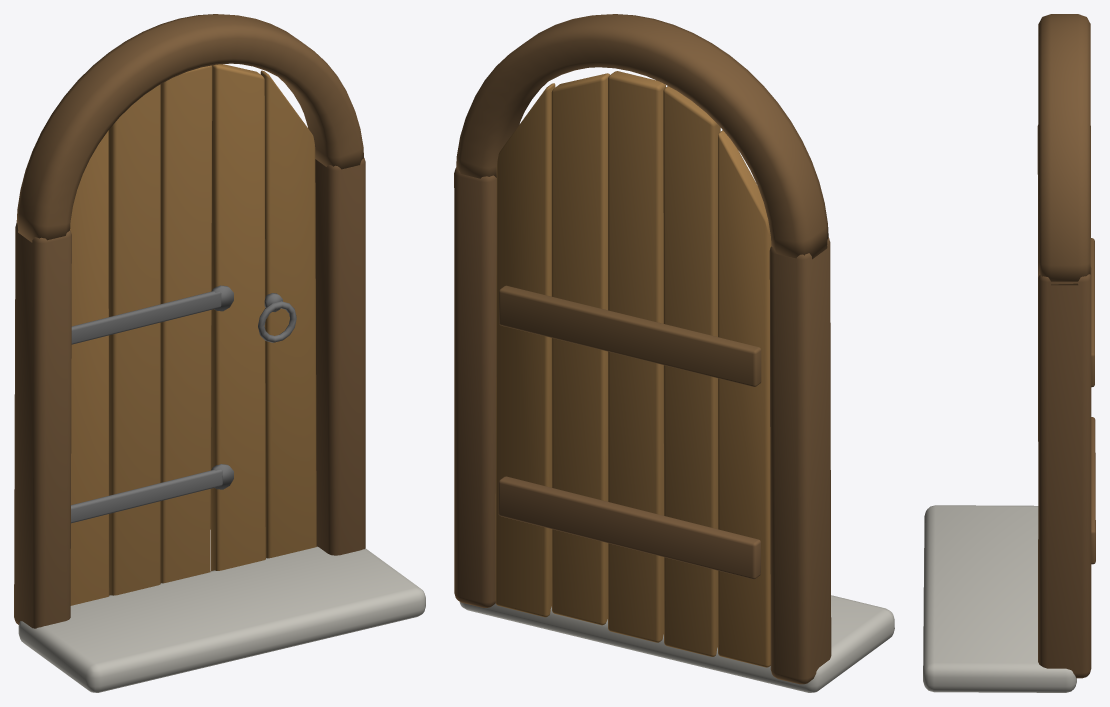
Rendered from tg_door_arch.glb.
3 renders of one model, left to right at view 1: azimuth 30°, elevation 25°; view 2: azimuth 150°, elevation 25°; view 3: azimuth 270°, elevation 25°, orthographic. The views are drawn at different scales.
Visible parts, largest first — view 1: door_tg_arch; view 2: door_tg_arch; view 3: door_tg_arch.
Boxes of the visible parts, left/top/right/bottom form: door_tg_arch: left=14, top=14, right=425, bottom=692; door_tg_arch: left=454, top=14, right=894, bottom=692; door_tg_arch: left=923, top=14, right=1095, bottom=692.
Bounding box in the file's own units: 1.47 × 2.42 × 0.6514.
